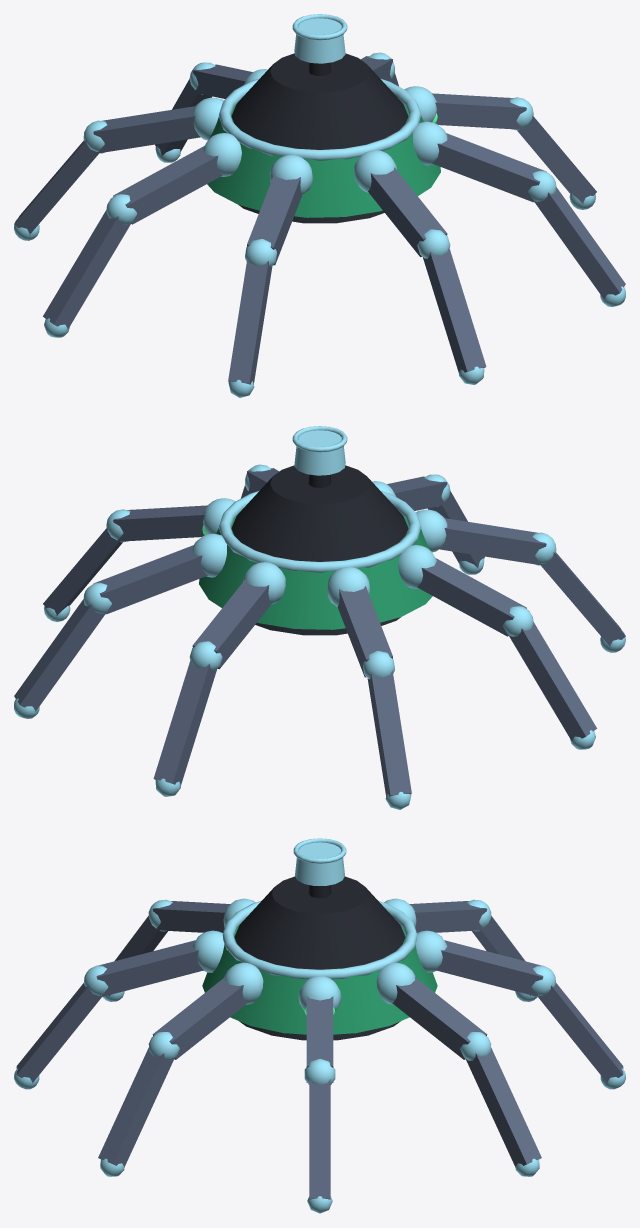
Rendered from spider-bot.glb.
The picture shows the model from 3 angles, top to bottom: view 1: azimuth 30°, elevation 25°; view 2: azimuth 150°, elevation 25°; view 3: azimuth 270°, elevation 25°; orthographic projection. The views are drawn at different scales.
Visible parts, largest first — view 1: Dome, Shell, Leg4_tibia, Leg2_tibia, Leg1_femurMesh, Leg4_femurMesh, AccentRing, Leg1_tibia, Leg3_tibia, Leg5_femurMesh, Leg2_femurMesh, Leg0_femurMesh (+18 smaller); view 2: Dome, Shell, Leg4_tibia, Leg6_tibia, Leg7_femurMesh, Leg4_femurMesh, AccentRing, Leg7_tibia, Leg5_tibia, Leg3_femurMesh, Leg6_femurMesh, Leg0_femurMesh (+18 smaller); view 3: Dome, Shell, Leg1_tibia, Leg7_tibia, AccentRing, Leg2_femurMesh, Leg6_femurMesh, Leg1_femurMesh, Leg7_femurMesh, Leg2_tibia, Leg6_tibia, Leg0_tibia (+16 smaller).
Part boxes in pixels (x1,y1,x2,y2): Dome: [231, 53, 408, 149]; Shell: [207, 98, 440, 217]; Leg4_tibia: [43, 210, 130, 329]; Leg2_tibia: [423, 247, 486, 373]; Leg1_femurMesh: [432, 133, 546, 202]; Leg4_femurMesh: [113, 146, 222, 224]; AccentRing: [218, 78, 421, 160]; Leg1_tibia: [534, 187, 625, 299]; Leg3_tibia: [228, 258, 272, 384]; Leg5_femurMesh: [93, 106, 200, 153]; Leg2_femurMesh: [368, 167, 447, 257]; Leg0_femurMesh: [432, 93, 526, 129]; Dome: [231, 465, 408, 561]; Shell: [199, 510, 432, 629]; Leg4_tibia: [509, 622, 596, 741]; Leg6_tibia: [153, 659, 216, 785]; Leg7_femurMesh: [93, 545, 207, 614]; Leg4_femurMesh: [417, 558, 526, 636]; AccentRing: [218, 490, 421, 572]; Leg7_tibia: [14, 599, 105, 711]; Leg5_tibia: [367, 670, 411, 796]; Leg3_femurMesh: [439, 518, 546, 565]; Leg6_femurMesh: [192, 579, 271, 669]; Leg0_femurMesh: [113, 505, 207, 541]; Dome: [234, 876, 405, 969]; Shell: [202, 923, 437, 1034]; Leg1_tibia: [98, 1047, 173, 1167]; Leg7_tibia: [466, 1047, 541, 1167]; AccentRing: [222, 901, 417, 979]; Leg2_femurMesh: [96, 940, 204, 996]; Leg6_femurMesh: [435, 940, 543, 996]; Leg1_femurMesh: [152, 977, 247, 1059]; Leg7_femurMesh: [392, 977, 487, 1059]; Leg2_tibia: [16, 983, 102, 1082]; Leg6_tibia: [537, 983, 623, 1082]; Leg0_tibia: [309, 1079, 330, 1199].
Bounding box in the file's own units: 1.14 × 0.4949 × 1.14.
